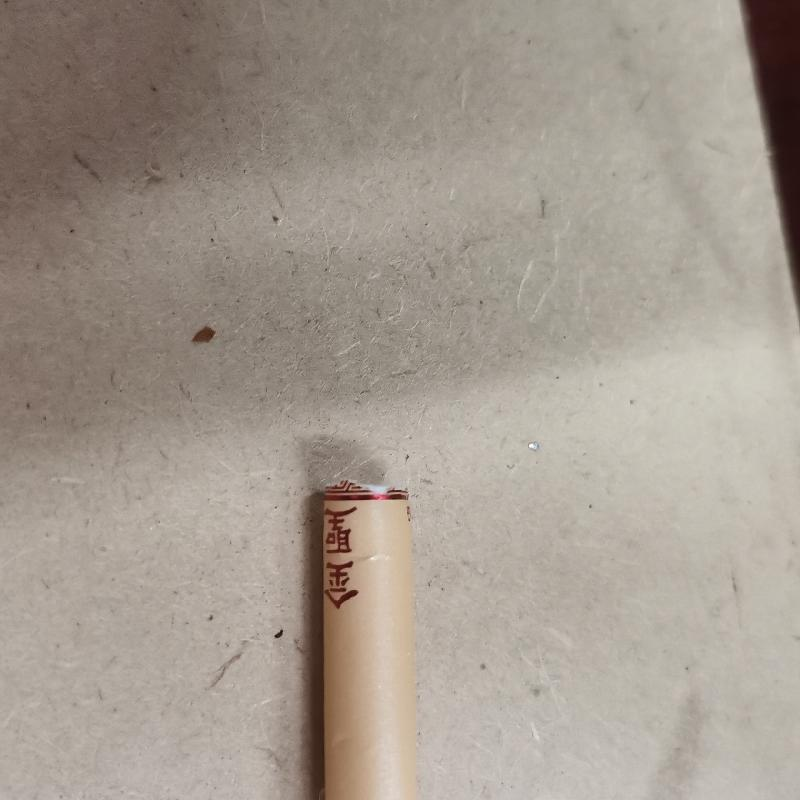cigarette: (305, 478, 421, 800)
